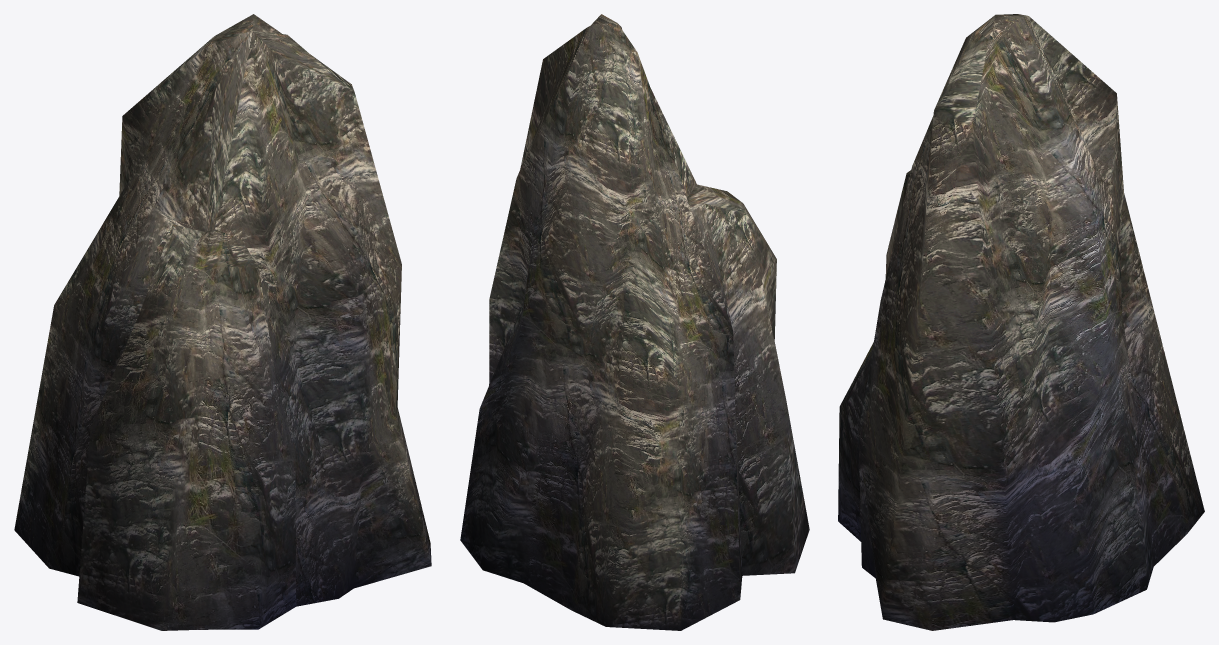
Rendered from GrayRock.gltf.
The picture shows the model from 3 angles, left to right: view 1: azimuth 30°, elevation 25°; view 2: azimuth 150°, elevation 25°; view 3: azimuth 270°, elevation 25°; orthographic projection. The views are drawn at different scales.
Parts seen in each view (by area): view 1: GrayRockMesh; view 2: GrayRockMesh; view 3: GrayRockMesh.
Boxes of the visible parts, x1,y1,x2,y2 form: GrayRockMesh: (14,14,431,630); GrayRockMesh: (460,14,809,630); GrayRockMesh: (838,14,1204,630).
Size of the model in its own units: 6.37 by 9.87 by 6.01.
Materials: 1 (1 with a texture image).
